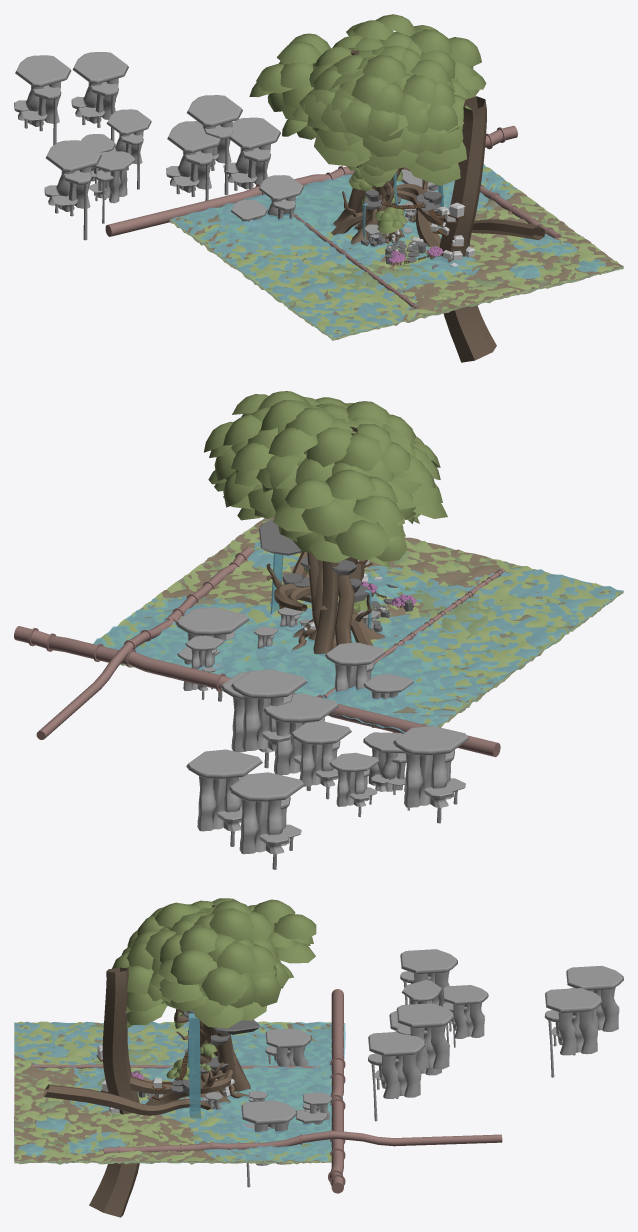
File: Watase_Level.fbx
3 views of the same model, one above another, from view 1: azimuth 30°, elevation 25°; view 2: azimuth 150°, elevation 25°; view 3: azimuth 270°, elevation 25° (orthographic). The views are drawn at different scales.
Parts seen in each view (by area): view 1: Field, Tree_C, Field_OBJ, Tree_A, Tree_C_R, Tree_B; view 2: Field_OBJ, Field, Tree_C, Tree_C_R, Tree_A; view 3: Field, Field_OBJ, Tree_C, Tree_A, Tree_C_R.
Part boxes in pixels (x1,y1,x2,y2): Field: [169, 163, 623, 340]; Tree_C: [249, 14, 486, 246]; Field_OBJ: [14, 52, 561, 308]; Tree_A: [382, 96, 544, 362]; Tree_C_R: [250, 14, 485, 189]; Tree_B: [375, 207, 407, 244]; Field_OBJ: [14, 547, 504, 869]; Field: [93, 517, 623, 732]; Tree_C: [204, 391, 447, 655]; Tree_C_R: [205, 391, 446, 566]; Tree_A: [266, 552, 382, 624]; Field: [14, 1021, 345, 1164]; Field_OBJ: [31, 949, 623, 1193]; Tree_C: [112, 898, 316, 1118]; Tree_A: [43, 967, 233, 1217]; Tree_C_R: [114, 898, 314, 1027].
Bounding box in the file's own units: 47359 × 32720 × 60986.
